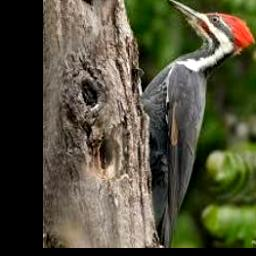Woodpecker: (140, 0, 255, 248)
